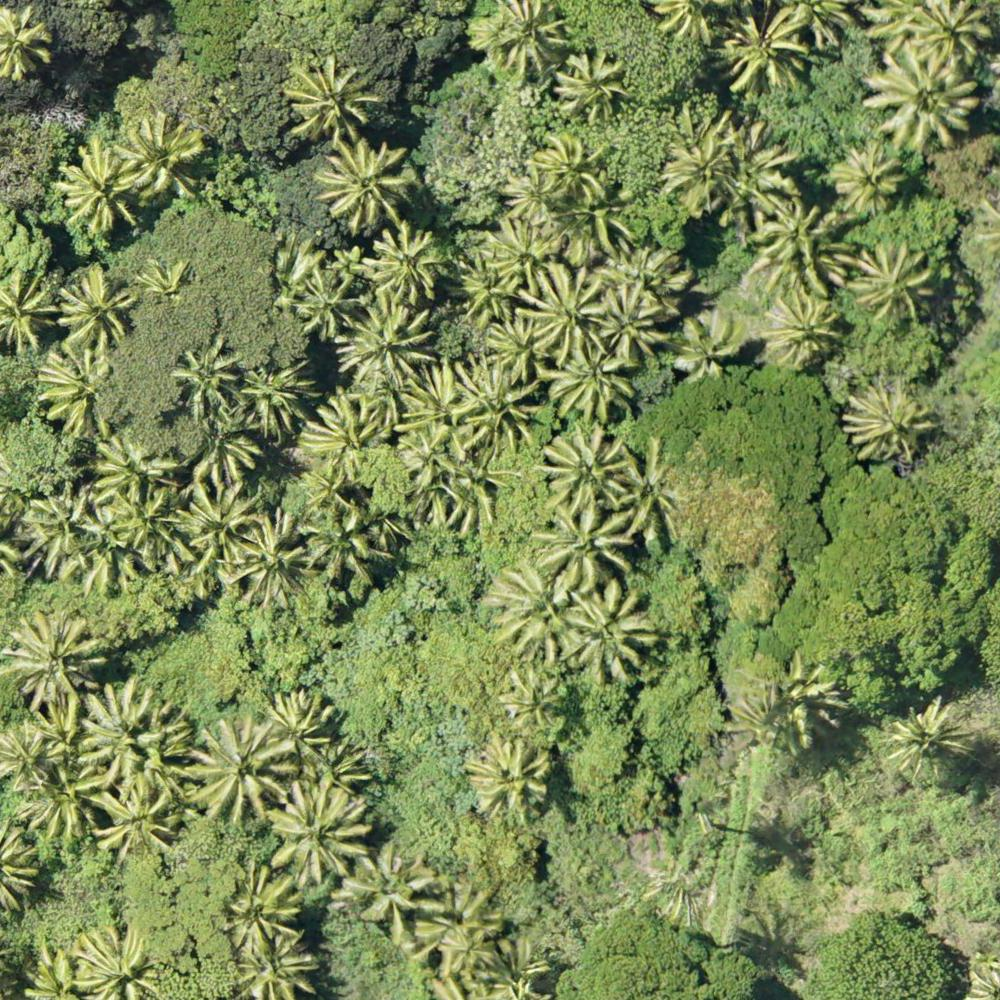Palm: (186, 716, 297, 822), (265, 784, 378, 881), (870, 46, 975, 147), (563, 585, 666, 677), (448, 352, 543, 450), (351, 838, 436, 938), (535, 507, 635, 590), (9, 610, 99, 702), (520, 267, 612, 356), (486, 562, 571, 658), (36, 344, 120, 441), (613, 443, 696, 541), (346, 299, 435, 389), (86, 685, 174, 776), (540, 335, 636, 418), (94, 780, 184, 868), (285, 48, 369, 140), (53, 141, 140, 229), (717, 5, 807, 90), (319, 141, 405, 228), (890, 697, 976, 783), (302, 391, 388, 477), (117, 108, 202, 195), (71, 922, 166, 999), (846, 383, 934, 465), (542, 430, 628, 511), (245, 512, 319, 606), (220, 866, 300, 951), (465, 735, 549, 815), (95, 424, 175, 508), (848, 240, 935, 317), (302, 498, 376, 588), (24, 491, 102, 576), (732, 675, 813, 754), (780, 660, 852, 747), (914, 1, 1000, 71), (236, 931, 323, 1000), (179, 490, 259, 565), (480, 219, 559, 294), (611, 239, 691, 313), (56, 265, 128, 346), (771, 288, 845, 366), (536, 134, 614, 208), (598, 285, 669, 365), (489, 2, 564, 77), (557, 47, 632, 121), (181, 414, 259, 485), (17, 769, 88, 847), (396, 362, 475, 432), (659, 134, 734, 206), (369, 229, 446, 299), (750, 197, 833, 260), (259, 686, 329, 757), (830, 143, 904, 210), (674, 315, 743, 385), (480, 316, 550, 384), (392, 419, 465, 483), (498, 666, 571, 728), (116, 492, 181, 560), (248, 362, 312, 428), (172, 341, 237, 405), (1, 5, 56, 80), (300, 266, 361, 332), (135, 251, 200, 310), (1, 726, 61, 788), (435, 919, 495, 977), (496, 164, 553, 224)
